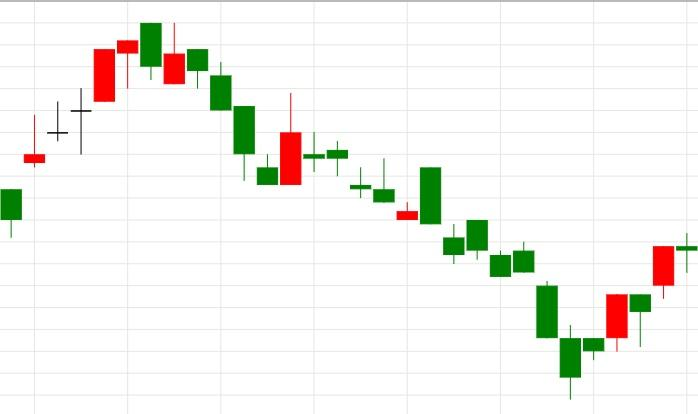bullish_engulfing_rise: (187, 49, 301, 185)
